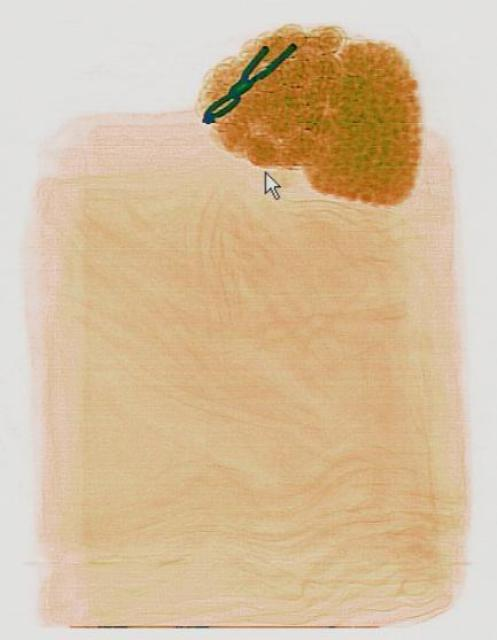Pliers: (194, 22, 297, 132)
